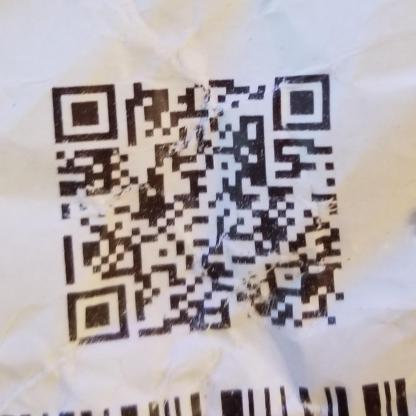barcode: (1, 373, 416, 416)
qr: (46, 65, 349, 345)
